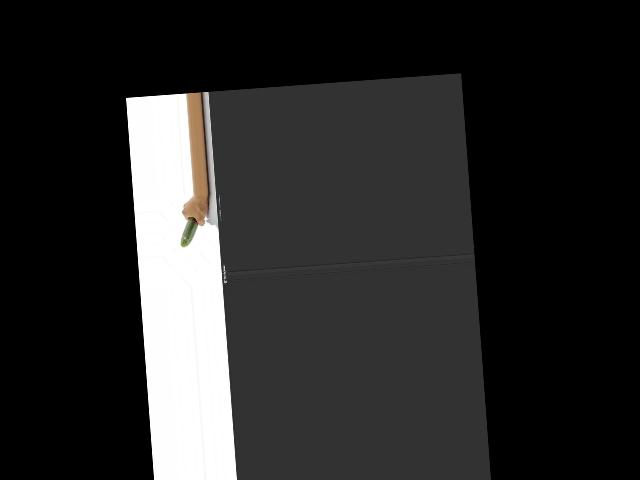cucumber: (178, 216, 199, 247)
